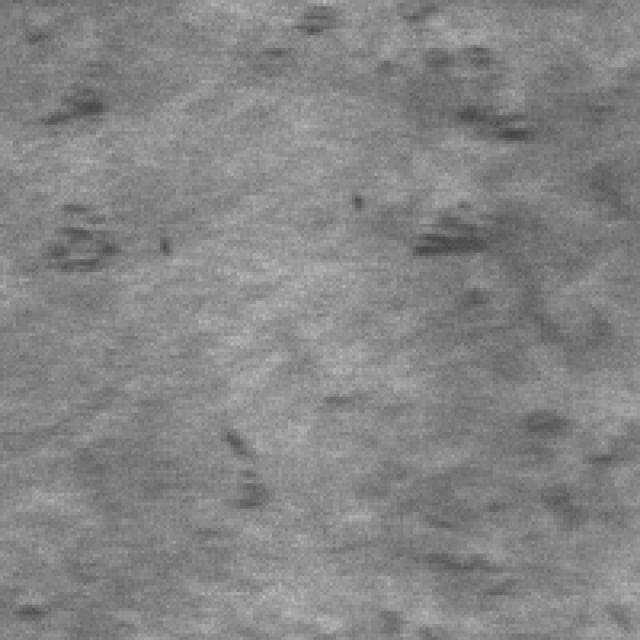rolled-in_scale: (412, 320, 634, 608), (390, 0, 544, 157), (45, 186, 131, 282)
